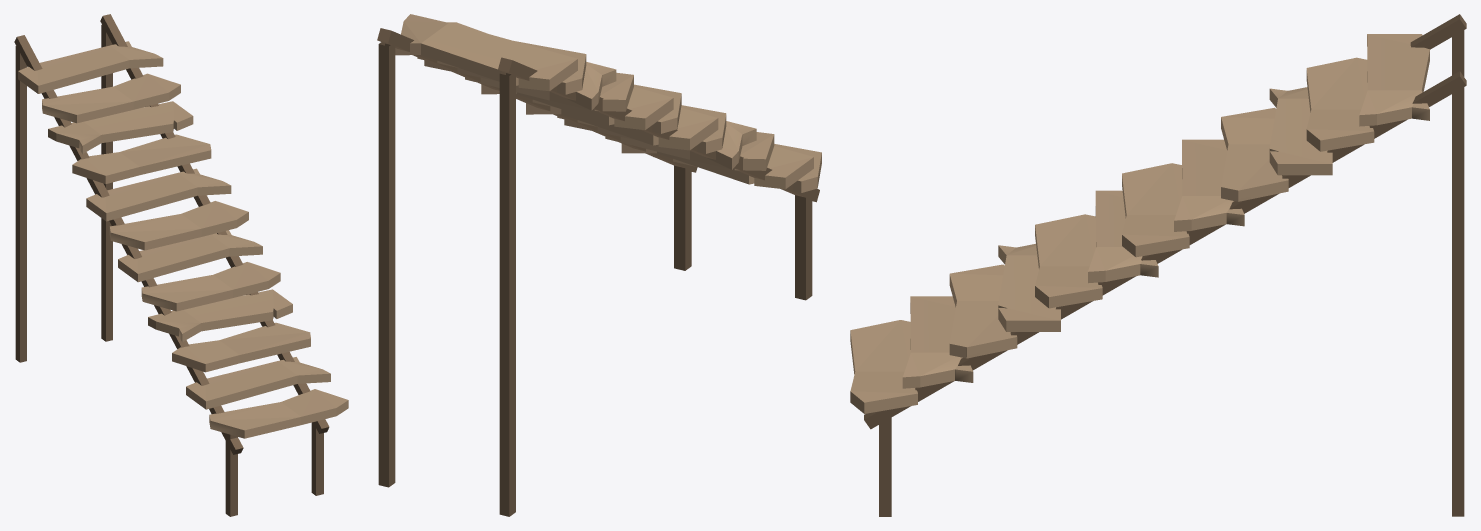
The model's file is Stairs_7.fbx.
3 views of the same model, side by side, from view 1: azimuth 30°, elevation 25°; view 2: azimuth 150°, elevation 25°; view 3: azimuth 270°, elevation 25° (orthographic). The views are drawn at different scales.
Parts seen in each view (by area): view 1: Stairs_7; view 2: Stairs_7; view 3: Stairs_7.
Boxes of the visible parts, x1,y1,x2,y2 form: Stairs_7: (14, 14, 348, 516); Stairs_7: (377, 14, 821, 516); Stairs_7: (850, 14, 1466, 516).
Size of the model in its own units: 129 by 318 by 403.
Materials: 1 (1 with a texture image).
